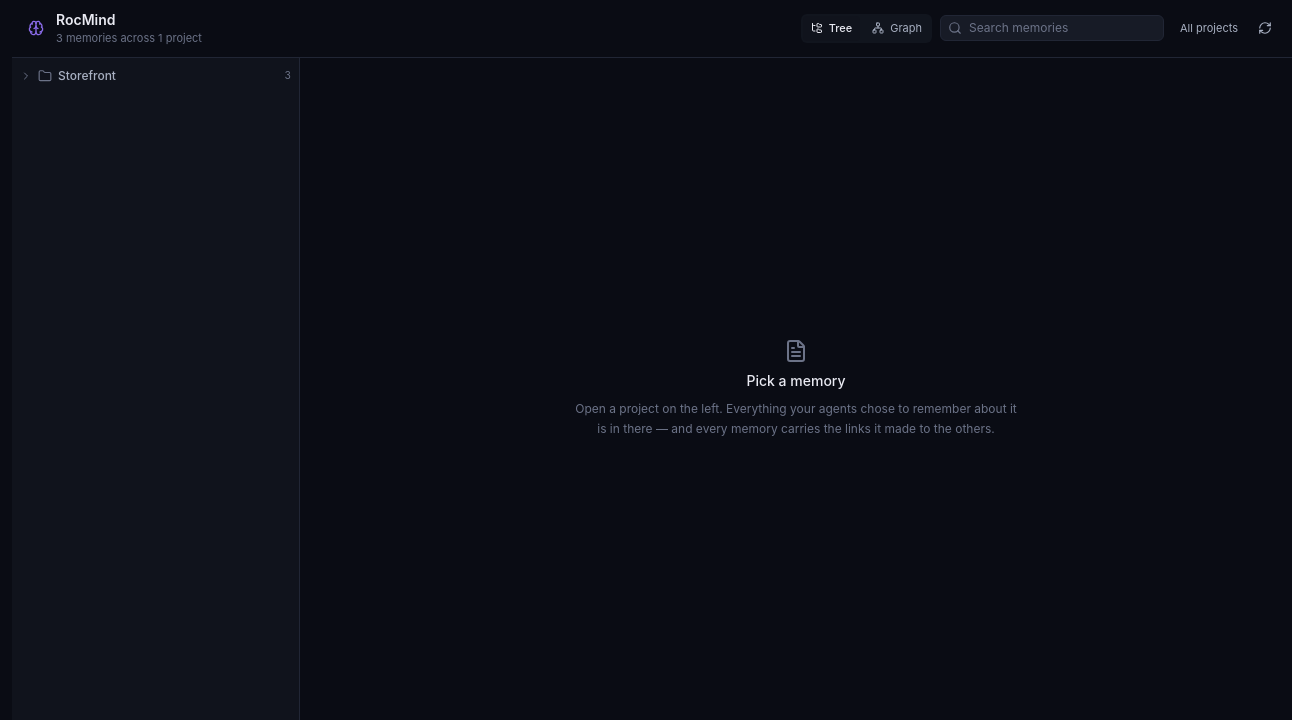
the tree › opens a project to its memories and nests its worktree underneath
Step 1. Click the button "Storefront 3" → (87, 75), box [12,62,299,90]
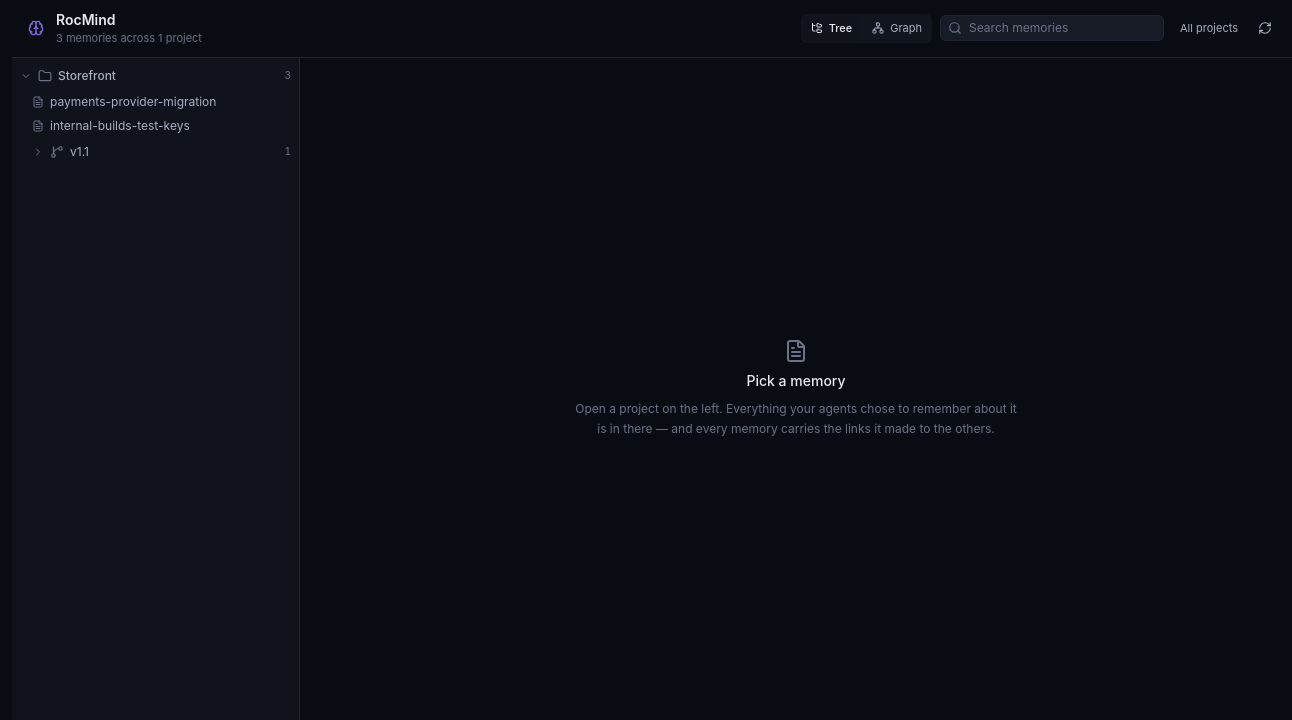
Expected: the button "worktree-only-note" is not shown
Now the button "payments-provider-migration" is shown, box [24,90,299,114]
Now the button "internal-builds-test-keys" is shown, box [24,114,299,138]
Step 2. Click the button "v1.1 1" → (38, 152), box [24,138,299,166]
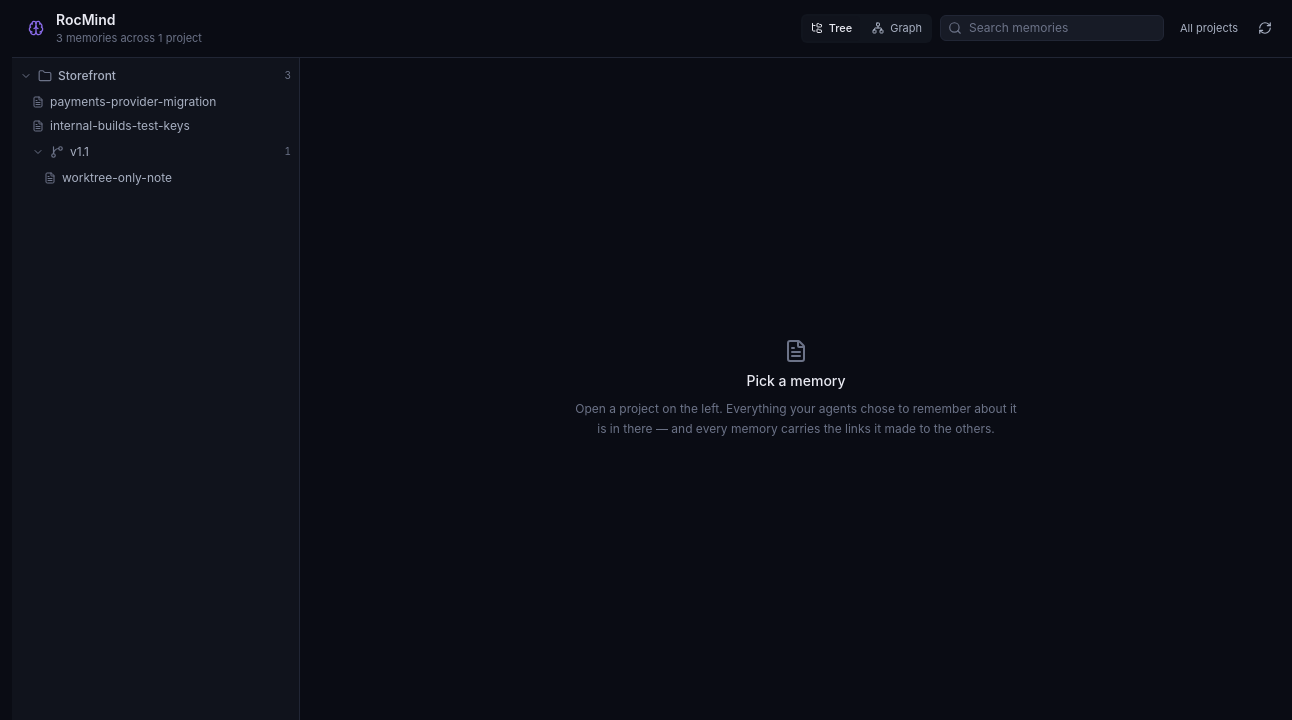
Now the button "worktree-only-note" is shown, box [36,166,299,190]
